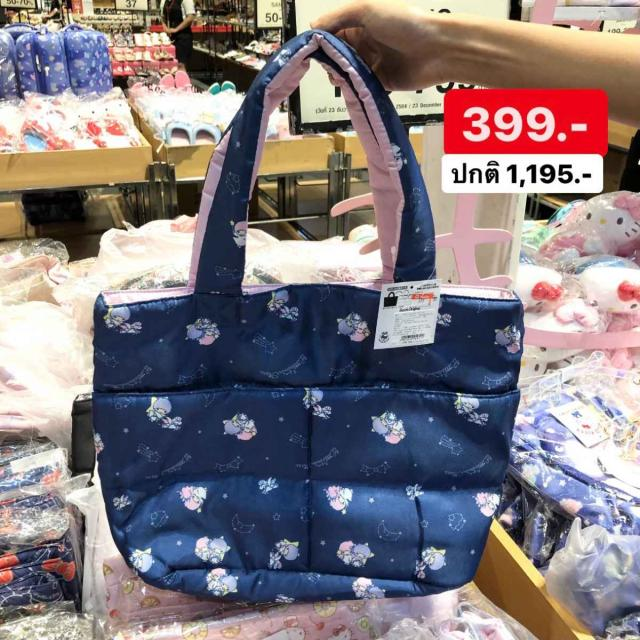Handbag: (64, 262, 535, 610)
